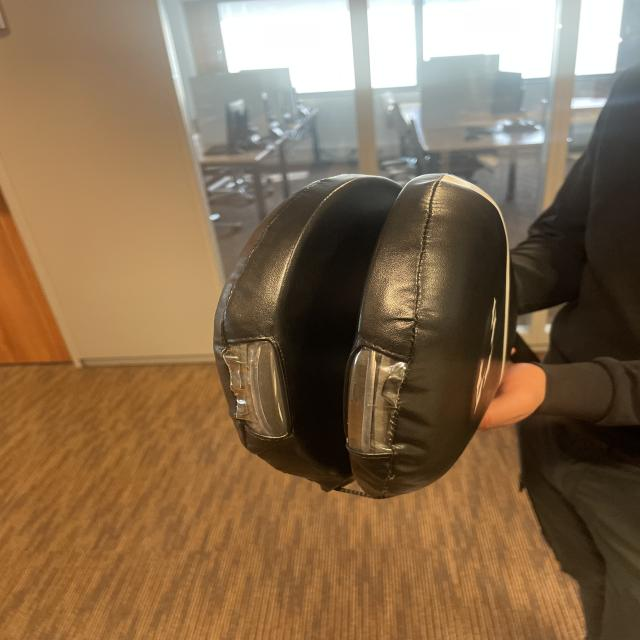paddle: (224, 172, 510, 491)
